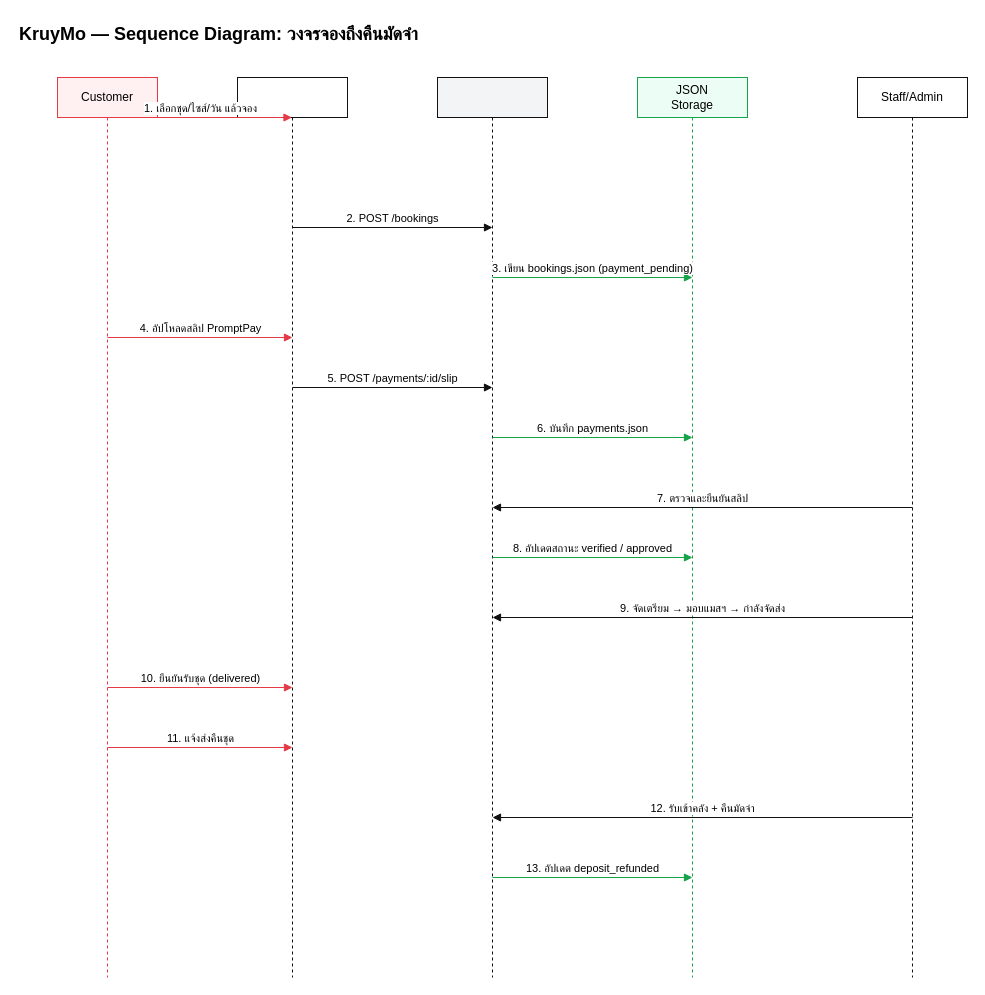
Some shapes in this 985 by 995 pixel diagram are drawn without their labels. The box of each missing label's shape, as (x1, y1, x2, y2) in pixels:
API (Express): (436, 76, 548, 978)
Frontend (React): (236, 76, 348, 978)
